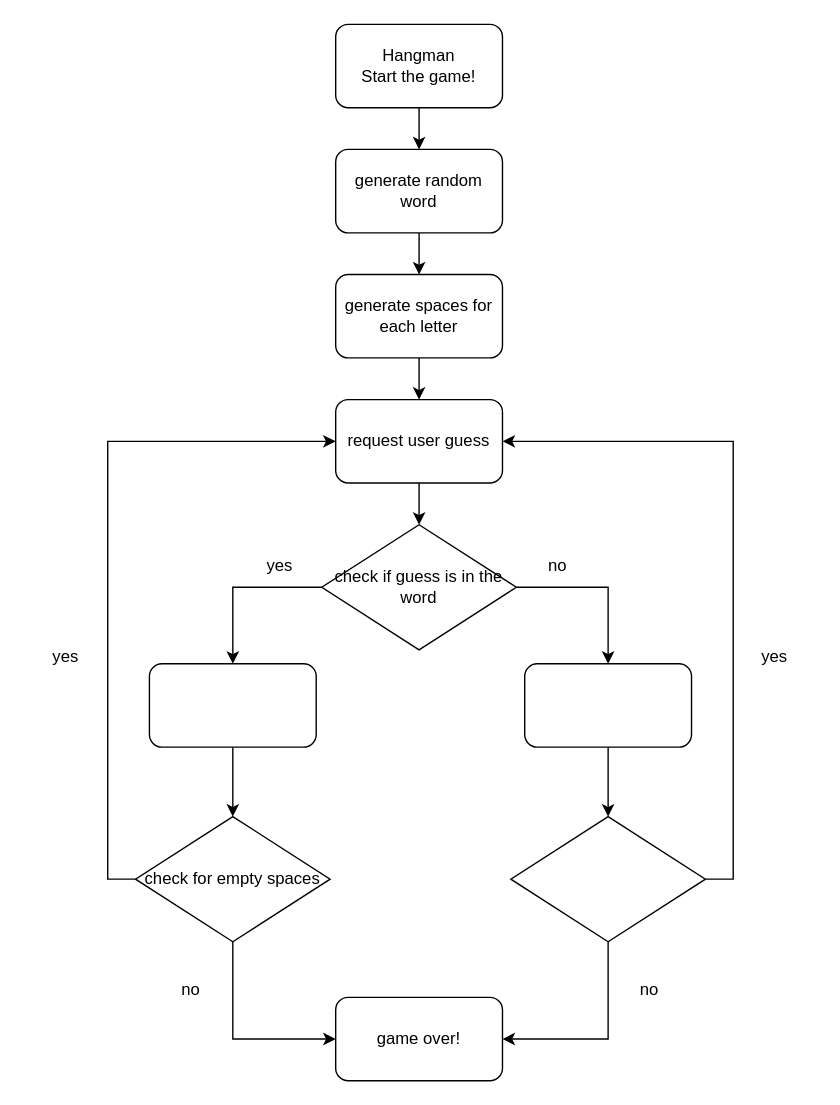
This 840x1105 diagram has some shape labels left out. Each missing label, with the centre of its shape:
"check if there are still lives" goes at point 607,878.
"lose a life" goes at point 607,704.
"replace space with letter" goes at point 232,704.
